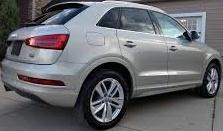Crossovers: (2, 2, 222, 129)
